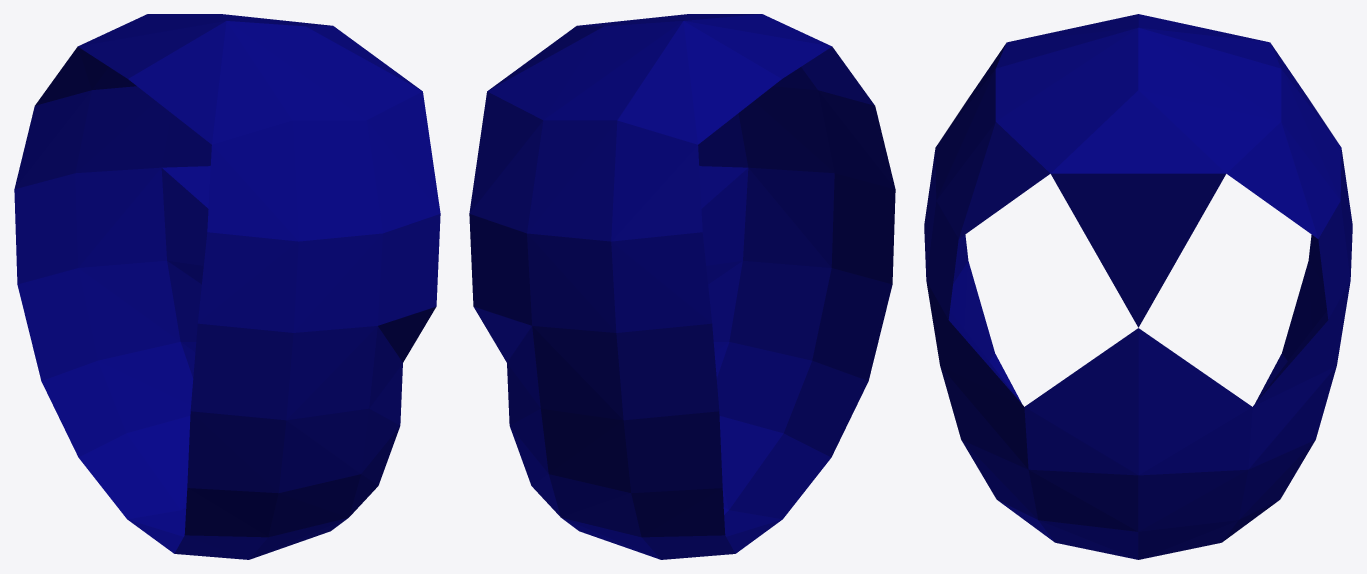
The picture shows the model from 3 angles, left to right: view 1: azimuth 30°, elevation 25°; view 2: azimuth 150°, elevation 25°; view 3: azimuth 270°, elevation 25°; orthographic projection.
Parts seen in each view (by area): view 1: mesh_09DCCB7363660383; view 2: mesh_09DCCB7363660383; view 3: mesh_09DCCB7363660383.
Part boxes in pixels (<box>): mesh_09DCCB7363660383: <box>14,14,440,559</box>; mesh_09DCCB7363660383: <box>469,14,895,559</box>; mesh_09DCCB7363660383: <box>924,14,1352,559</box>.
Bounding box in the file's own units: 1.16 × 2.13 × 1.6.
